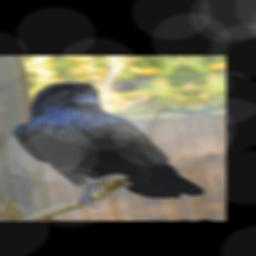Crow: (0, 73, 206, 212)
